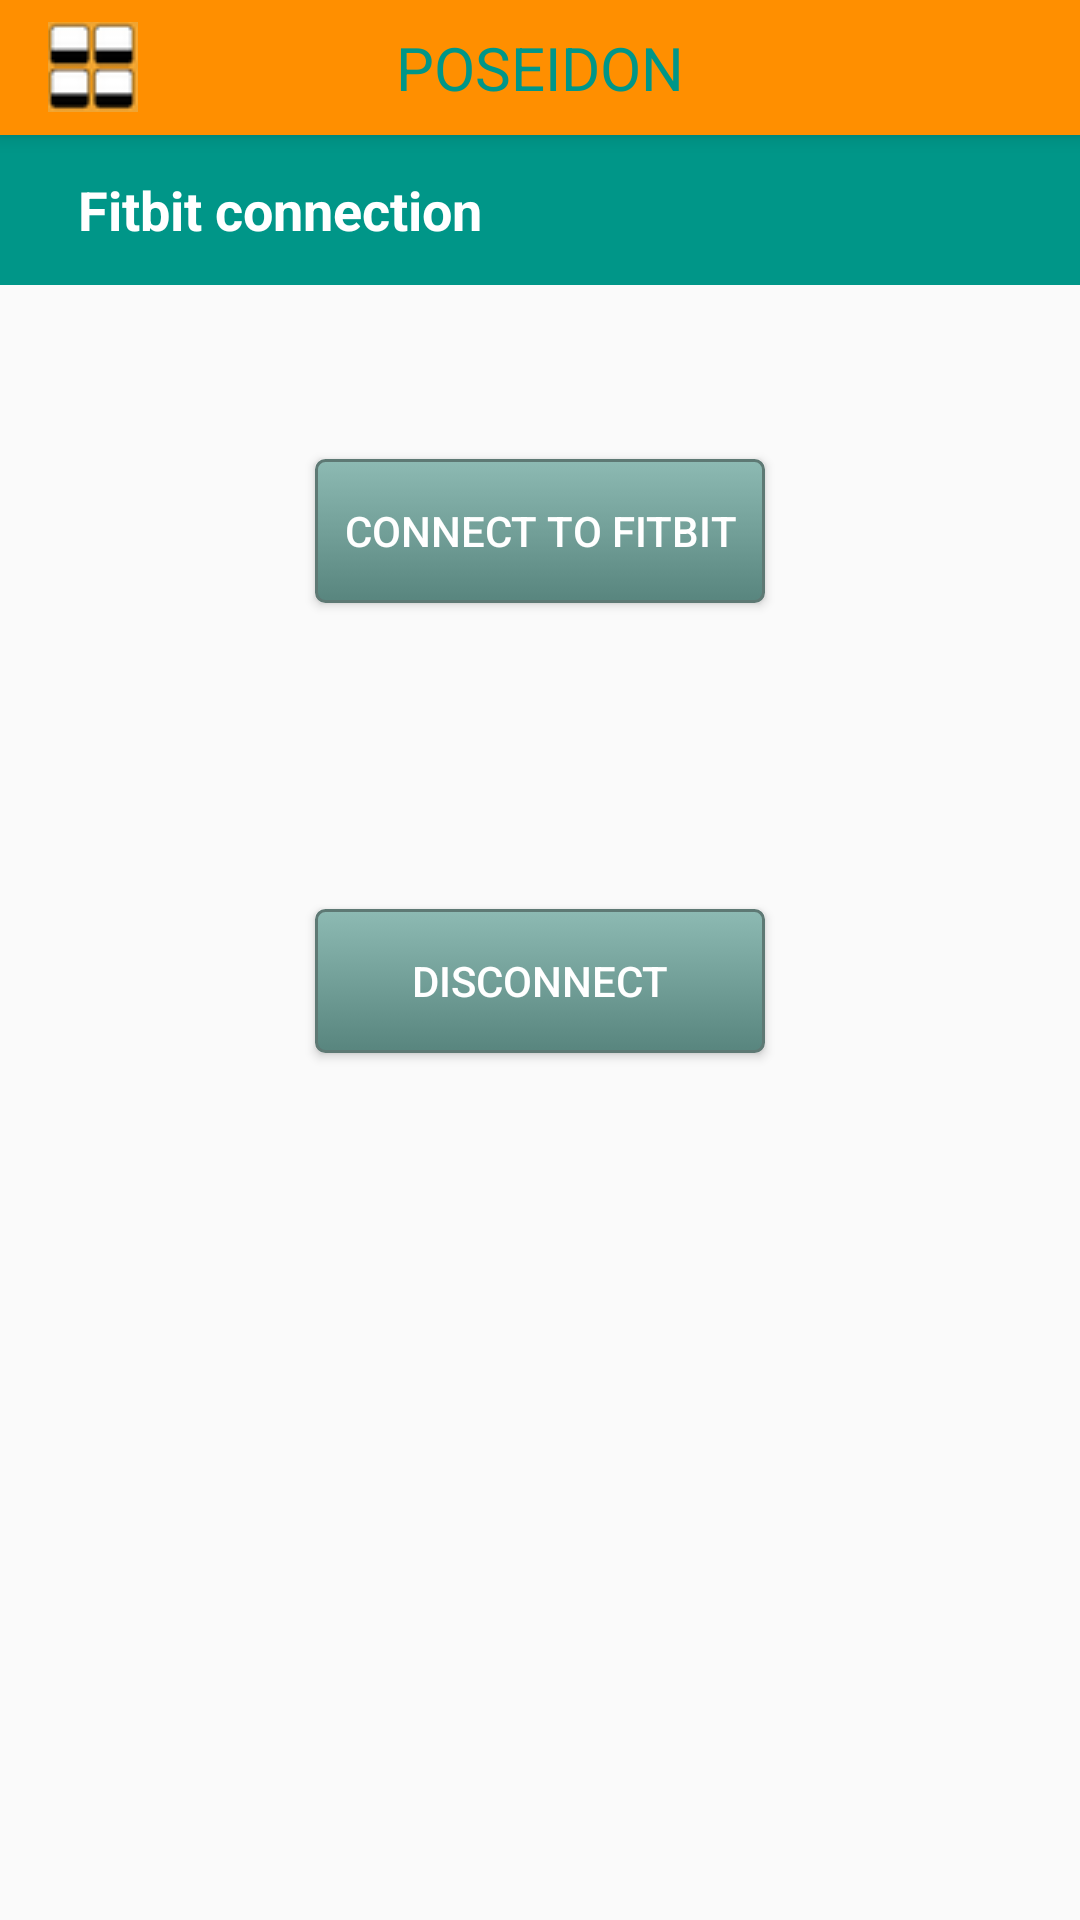

Icons on this 1080x1920 Android screen, each with its box as box(x1, y1, x2, y2):
homebutton: box(48, 22, 138, 112)
